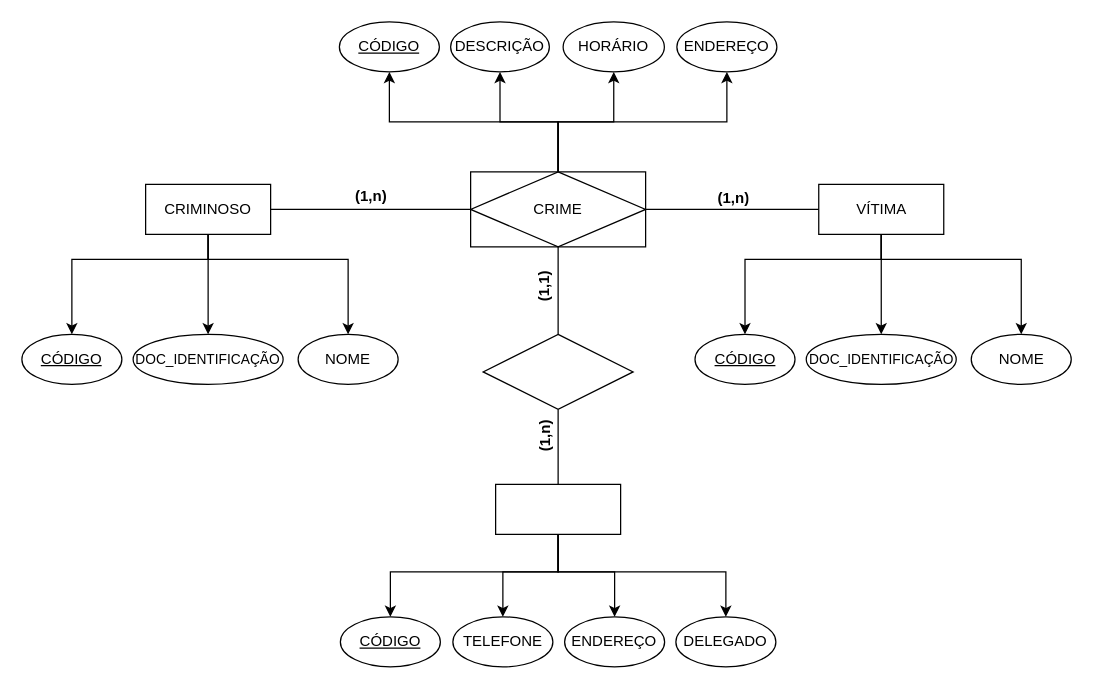
The diagram is 1094 pixels wide and 689 high, and some of its shapes have lost their labels. The shapes that lost their labels are listed below. From the top down, each one's centre as x and y in pixels, then its label:
At point (557, 371): "REGISTRO".
At point (557, 508): "DELEGACIA".
